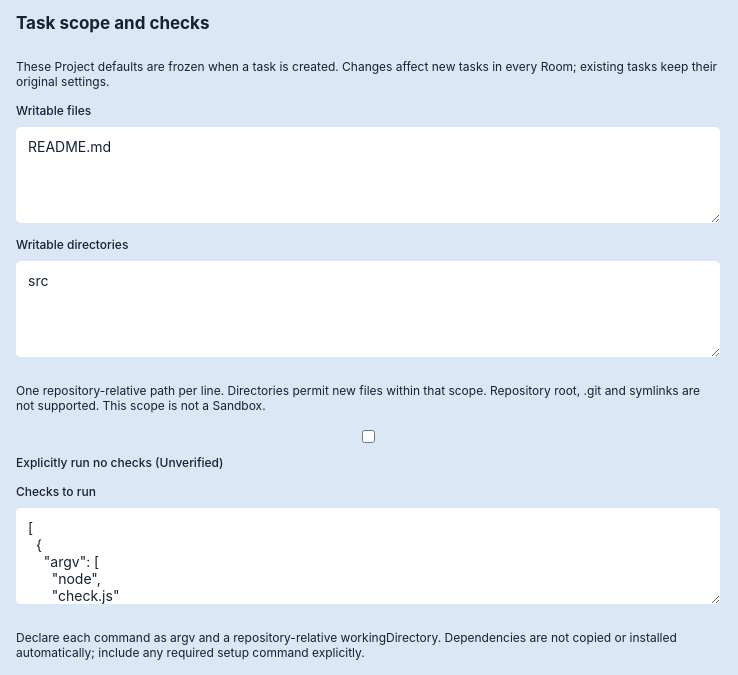
Scenario: persists explicit no-check settings on the actual Project with optimistic version
Check: the text box showing "README.md" is shown, box [16, 127, 720, 223]
Click the checkbox: coordinates (368, 436) [20, 430, 717, 443]
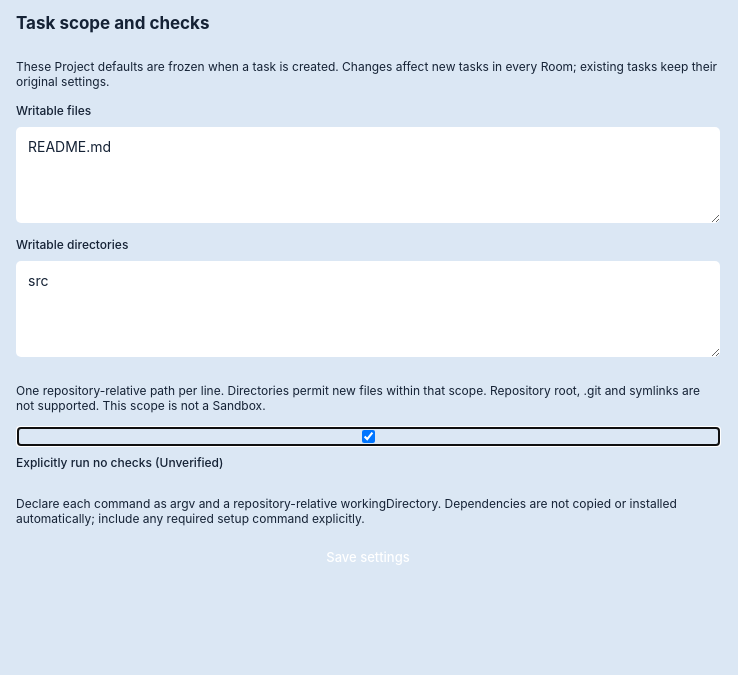
Click the button "Save settings": coordinates (368, 557) [16, 540, 720, 574]
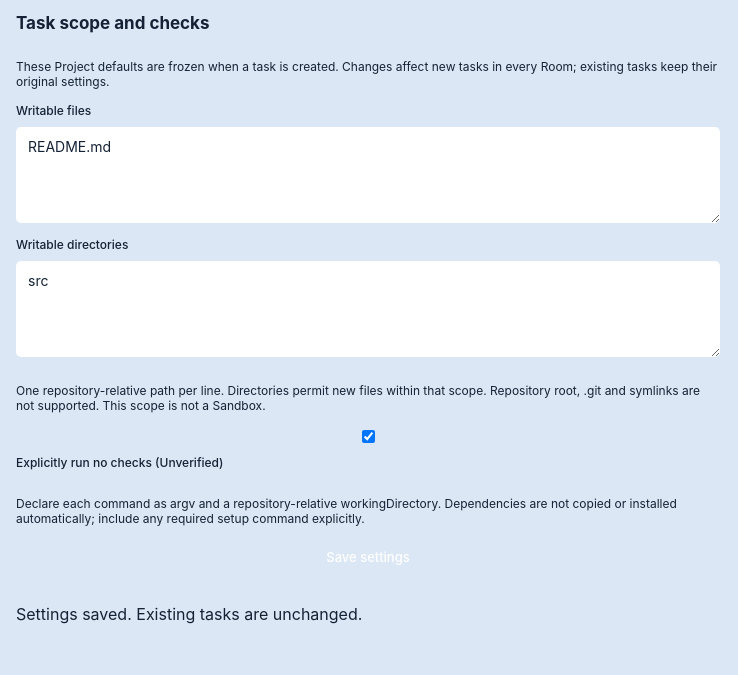
Check: the text "Settings saved. Existing tasks are unchanged." is shown, box [16, 604, 362, 624]
